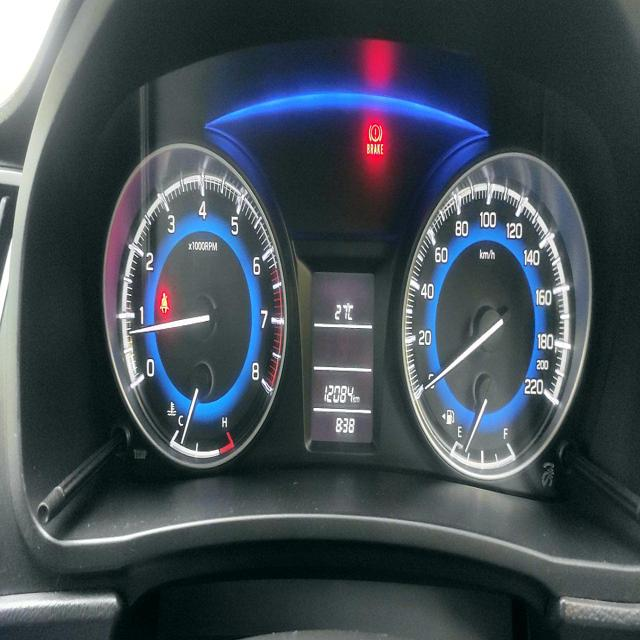odometer: (322, 381, 354, 406)
